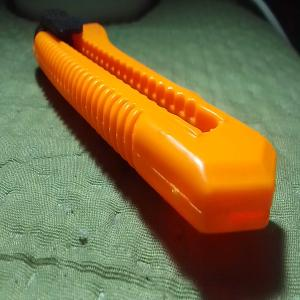estilete: (32, 9, 278, 234)
